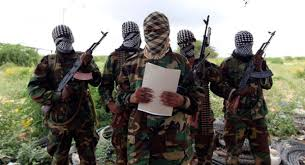terrorist: (37, 21, 109, 83), (230, 27, 288, 76), (141, 11, 176, 69), (177, 28, 204, 64), (113, 20, 142, 47)
